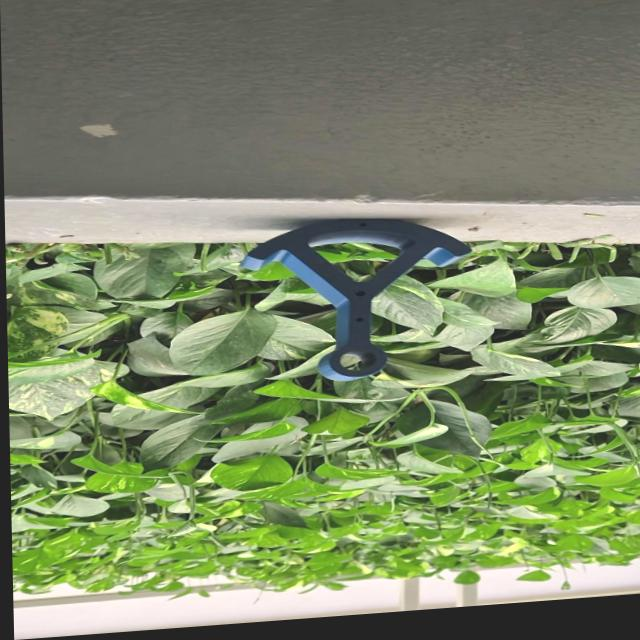haptic: (235, 207, 480, 391)
